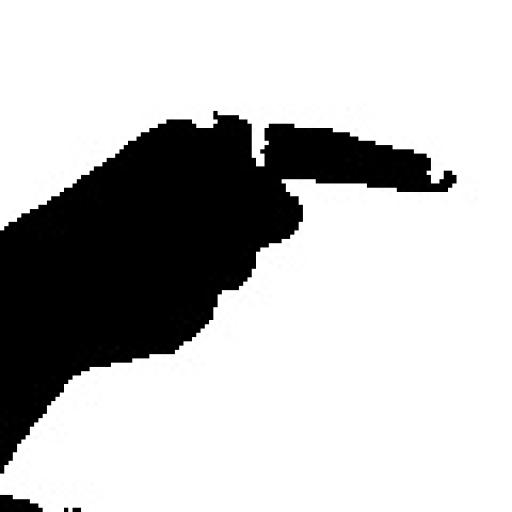index_right: (0, 107, 458, 331)
